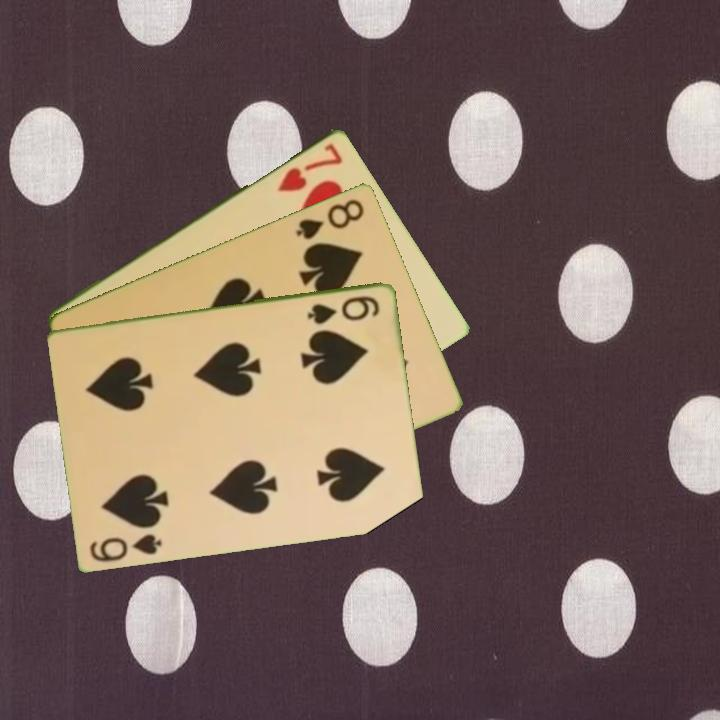6s: (304, 292, 383, 327), (87, 529, 165, 564)
7h: (273, 139, 346, 195)
8s: (292, 195, 367, 242)
